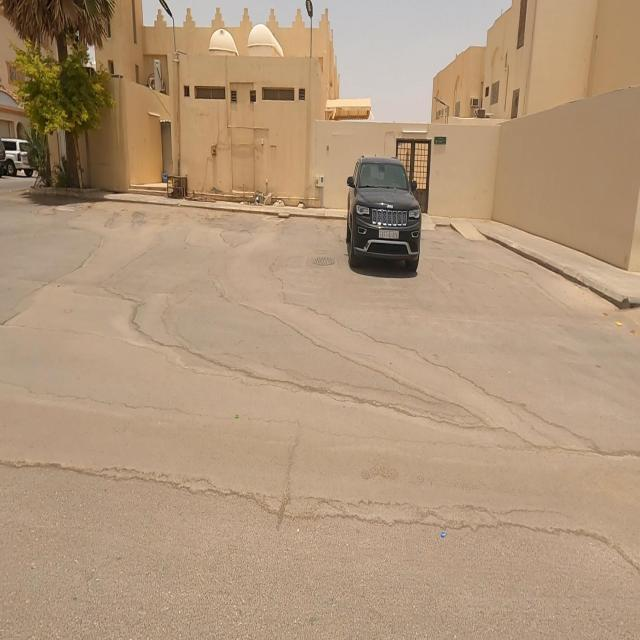debris: (204, 154, 300, 235), (168, 153, 244, 243)
